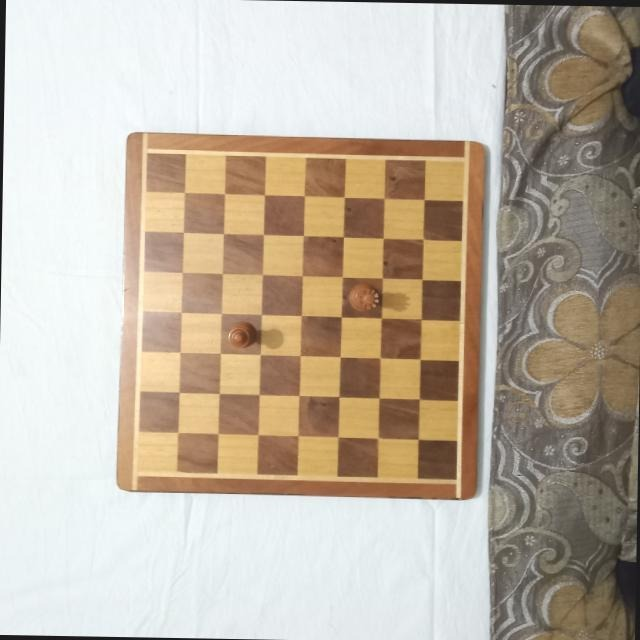white-king: (224, 320, 256, 348)
white-queen: (348, 283, 382, 312)
